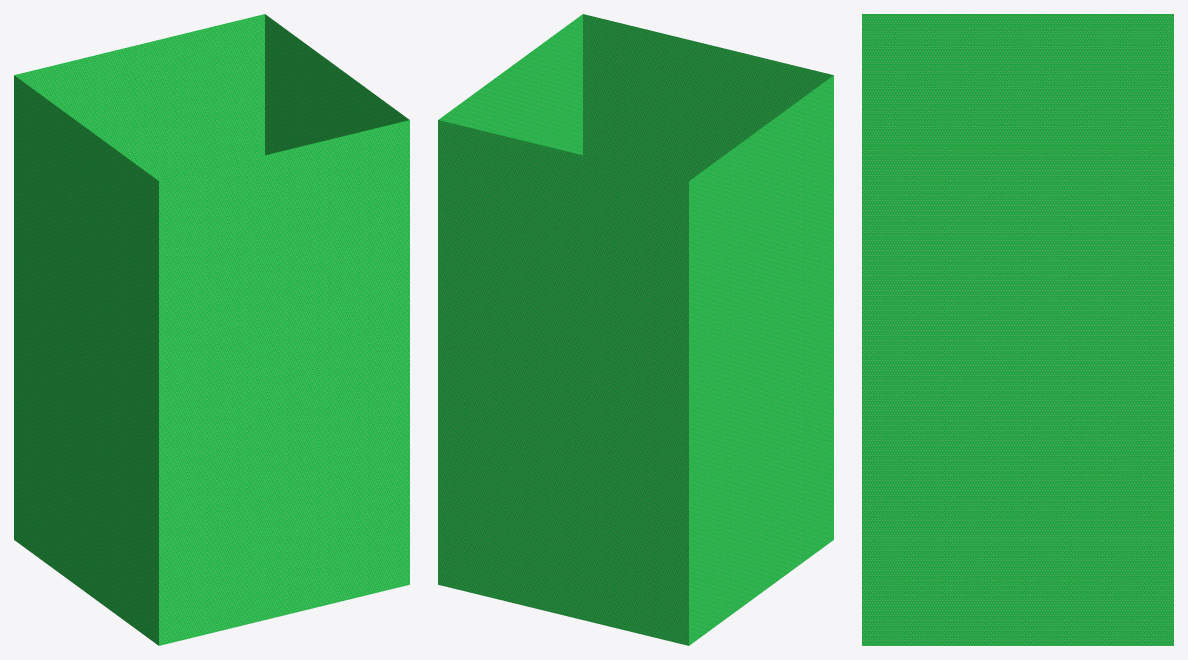
Rendered from DeadCollider #1163555.fbx.
3 views of the same model, side by side, from view 1: azimuth 30°, elevation 25°; view 2: azimuth 150°, elevation 25°; view 3: azimuth 270°, elevation 25° (orthographic). The views are drawn at different scales.
Visible parts, largest first — view 1: DeadCollider; view 2: DeadCollider; view 3: DeadCollider.
Boxes of the visible parts, x1,y1,x2,y2 form: DeadCollider: (14,14,409,645); DeadCollider: (438,14,833,645); DeadCollider: (862,14,1173,645).
Bounding box in the file's own units: 113 × 200 × 113.
